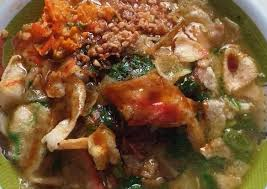soto: (1, 4, 267, 186)
